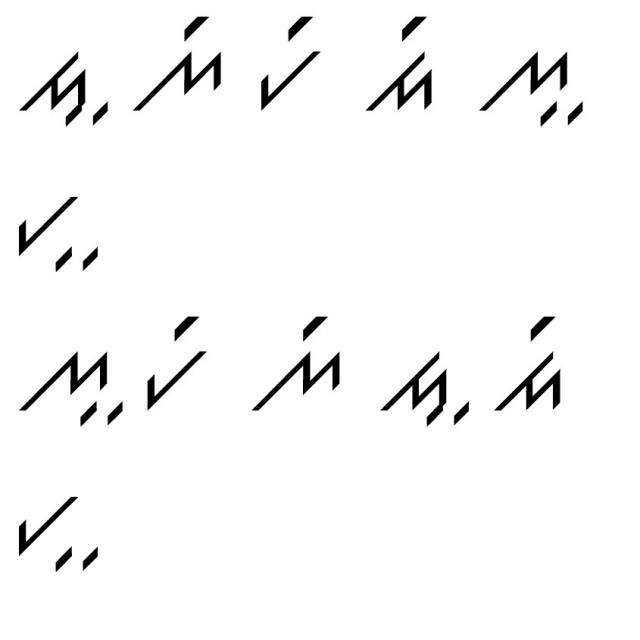dah: (16, 37, 112, 134), (382, 344, 473, 432)
dang: (354, 15, 441, 116), (493, 314, 570, 421)
nah: (14, 327, 128, 433), (463, 38, 588, 133)
nang: (123, 8, 231, 116), (247, 308, 343, 423)
pah: (9, 486, 113, 577), (7, 181, 103, 275)
pang: (141, 310, 217, 414), (257, 13, 324, 112)
